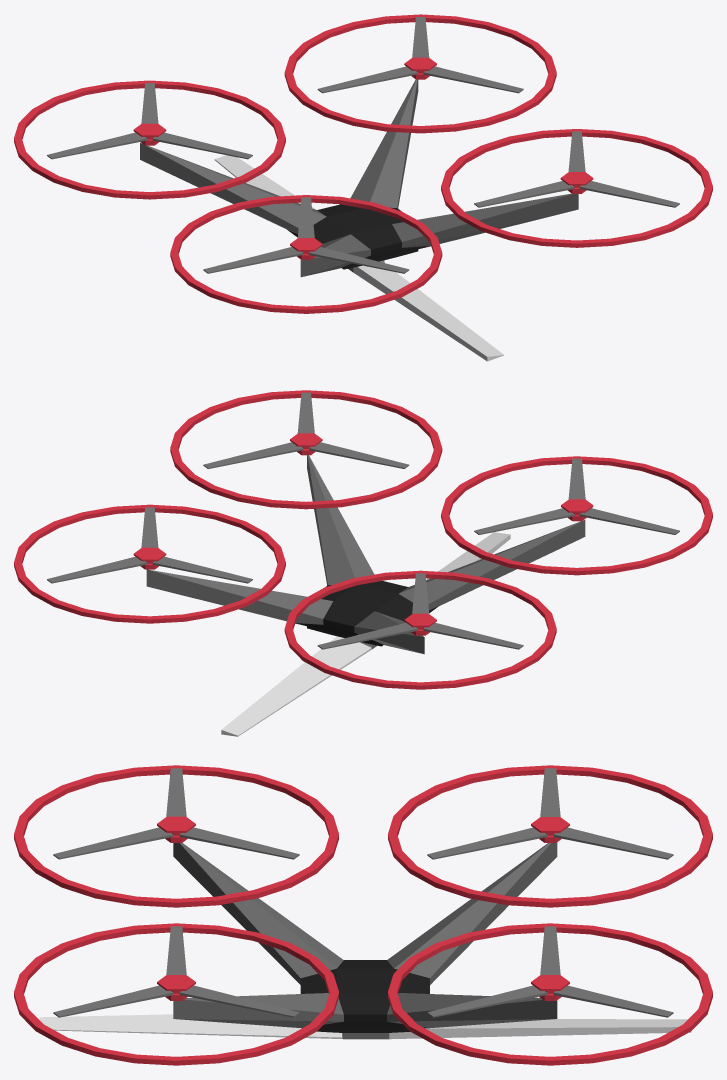
Rendered from Flying_Enemy_01.fbx.
3 renders of one model, top to bottom at view 1: azimuth 30°, elevation 25°; view 2: azimuth 150°, elevation 25°; view 3: azimuth 270°, elevation 25°, orthographic. The views are drawn at different scales.
Visible parts, largest first — view 1: Propeller gaurd, Drone Body, Blade, Propeller 1, Propeller 4, Propeller 2, Propeller 3; view 2: Propeller gaurd, Drone Body, Blade, Propeller 3, Propeller 2, Propeller 1, Propeller 4; view 3: Propeller gaurd, Drone Body, Blade, Propeller 2, Propeller 3, Propeller 4, Propeller 1.
Part boxes in pixels (x1,y1,x2,y2): Propeller gaurd: (14,14,712,313); Drone Body: (140,79,578,277); Blade: (214,155,503,361); Propeller 1: (47,83,252,159); Propeller 4: (317,17,523,93); Propeller 2: (203,197,409,273); Propeller 3: (474,131,679,207); Propeller gaurd: (14,390,712,689); Drone Body: (146,455,585,654); Blade: (221,532,510,736); Propeller 3: (203,392,409,468); Propeller 2: (474,458,679,534); Propeller 1: (317,573,523,649); Propeller 4: (47,507,252,583); Propeller gaurd: (14,765,712,1065); Drone Body: (173,842,557,1032); Blade: (39,1014,691,1039); Propeller 2: (53,768,299,859); Propeller 3: (53,926,299,1017); Propeller 4: (427,926,673,1017); Propeller 1: (427,768,673,859).
Size of the model in its own units: 430 by 90.73 by 430.
